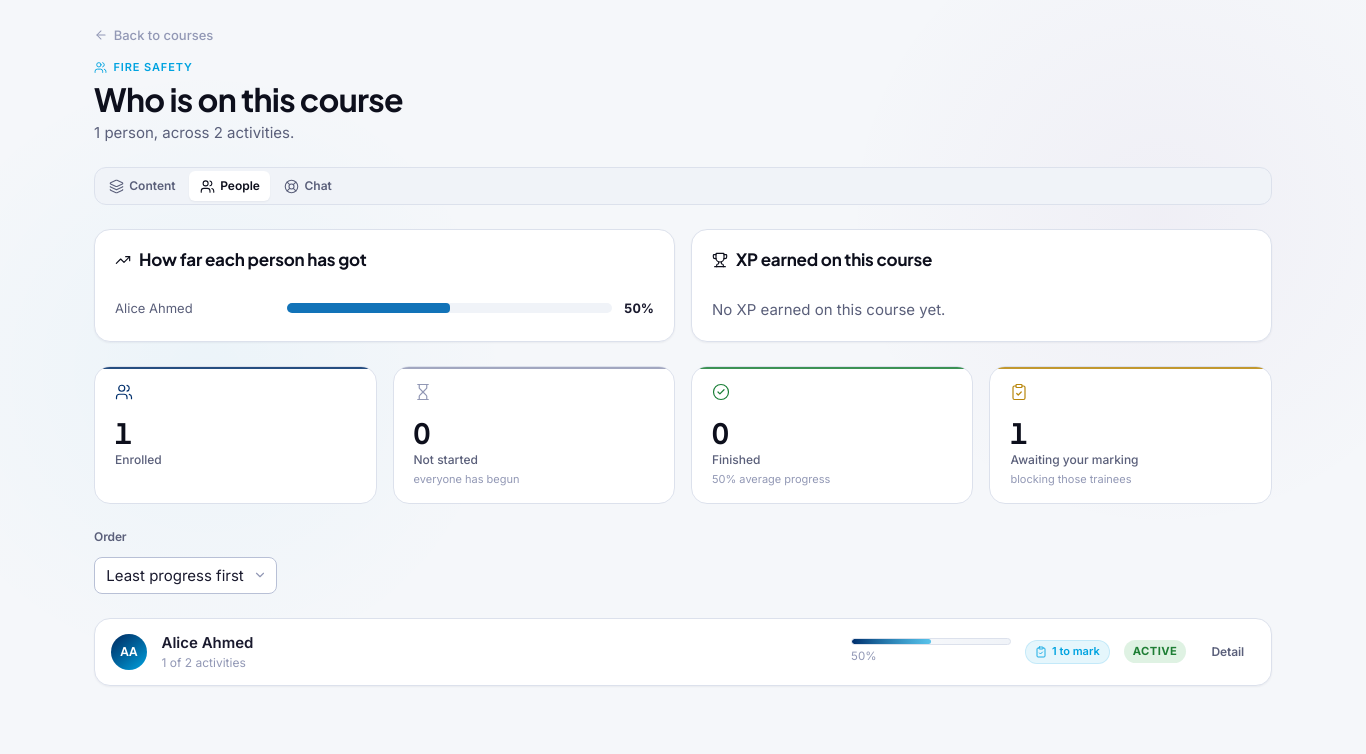
Scenario: one person › shows quiz attempts with a dash rather than a zero when unmarked
Step 1. Click the button "Detail" → (1228,652), box [1200,637,1255,667]
(page scrolled)
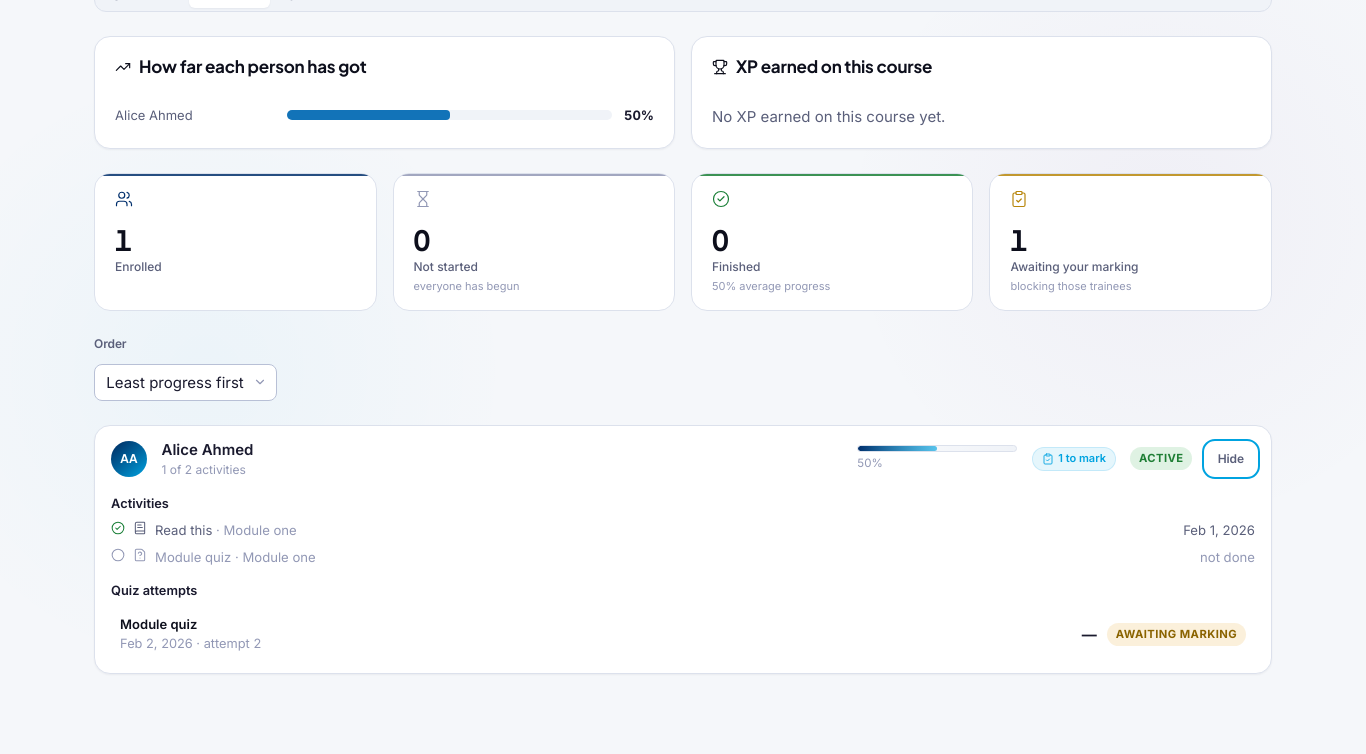
Expected: the text "—" is shown, [1082,623,1097,646]
Expected: the text "Feb 2, 2026 · attempt 2" is shown, [120,636,261,651]
